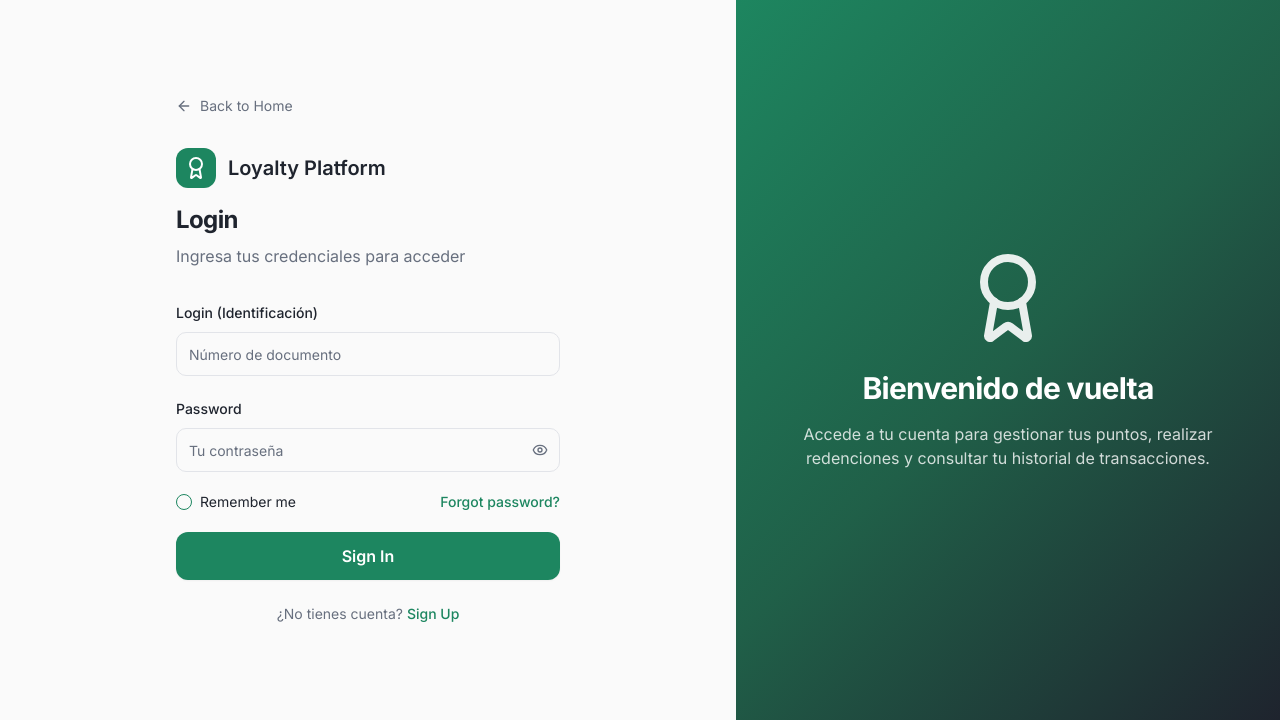
Login Page › shows forbidden error (403)
In the field with placeholder "Número de documento": (368, 354) [176, 332, 560, 376], type "blockeduser"
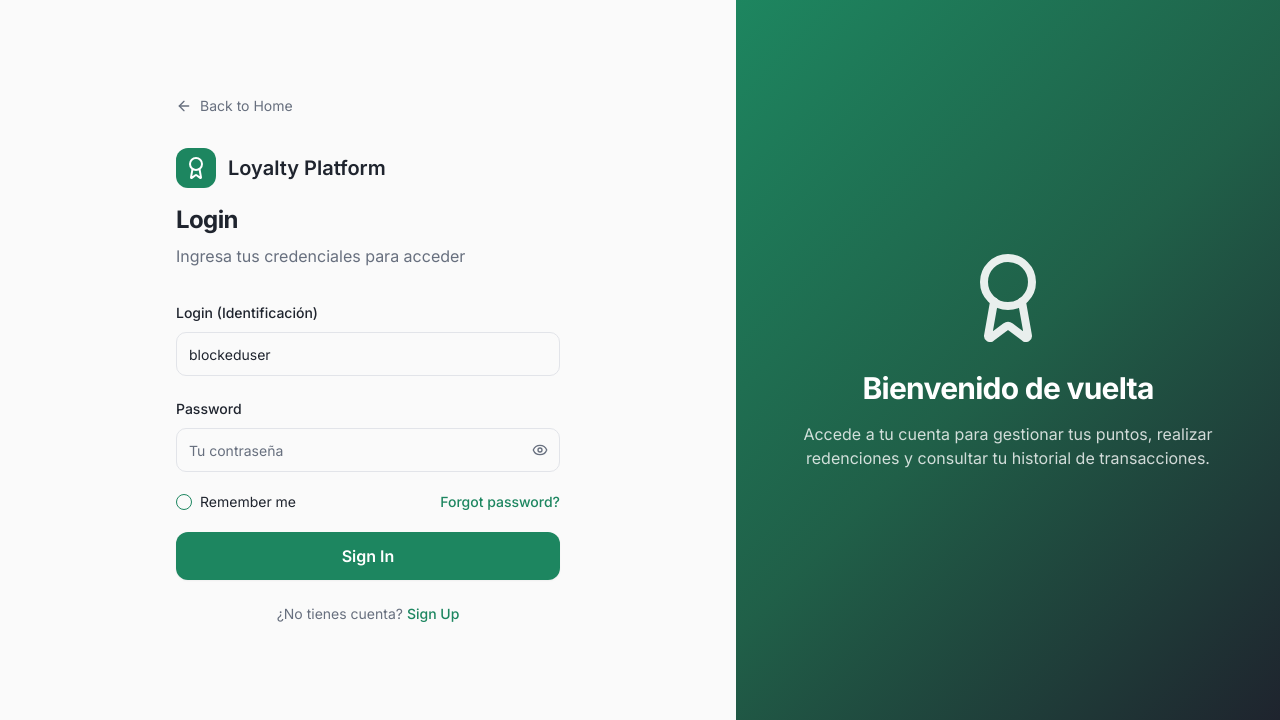
In the password field with placeholder "Tu contraseña": (368, 450) [176, 428, 560, 472], type "password"
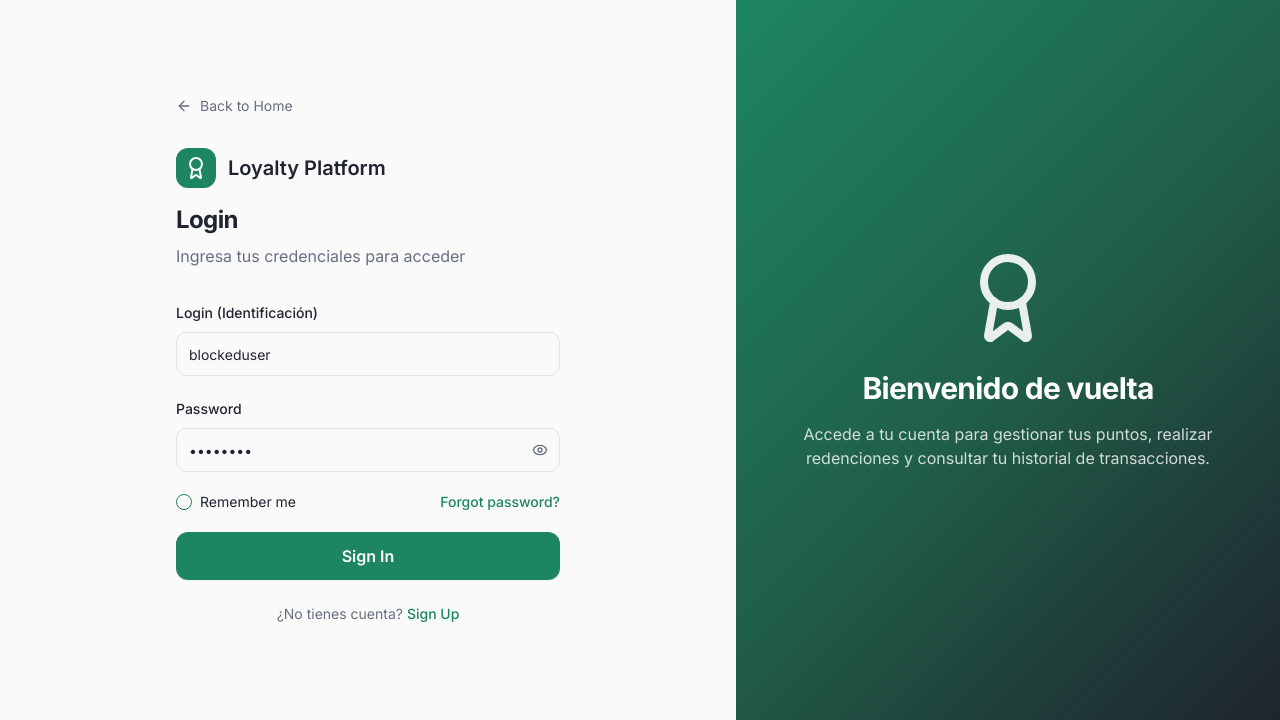
Click the button "Sign In": click(368, 556) [176, 532, 560, 580]
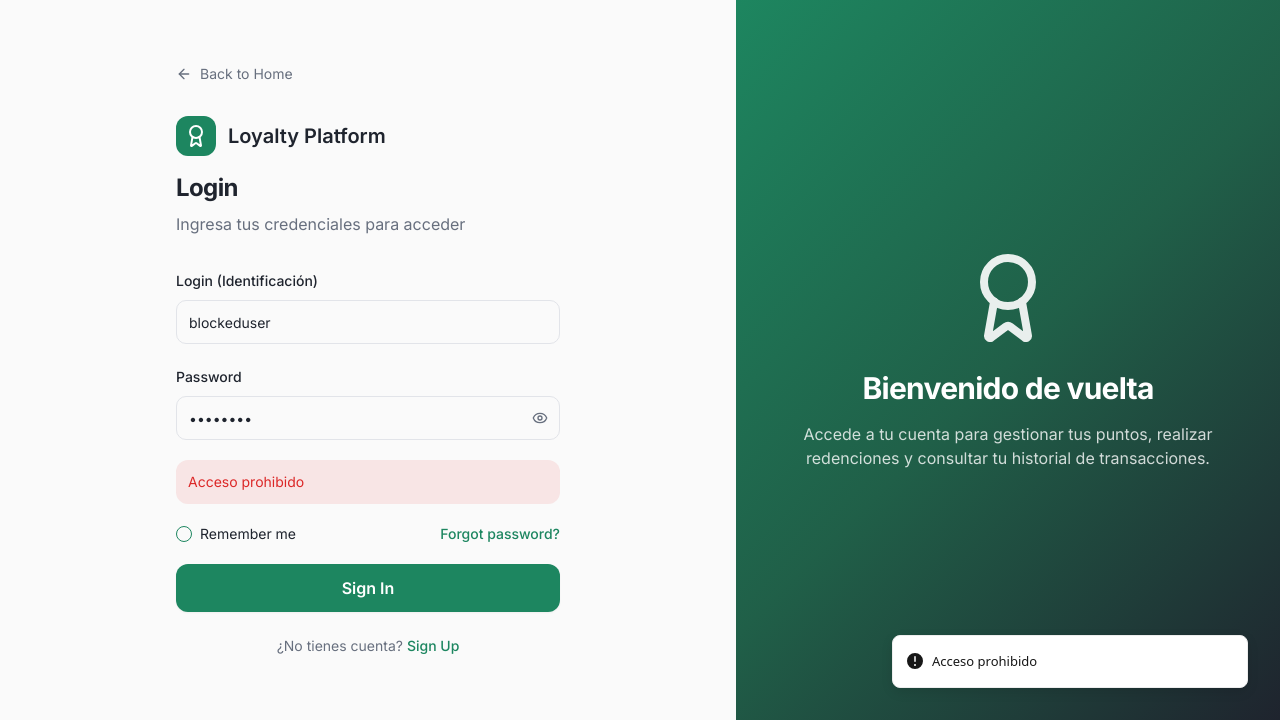
Check: the text "Acceso prohibido" below "Login (Identificación)" is shown, box [188, 473, 304, 490]
